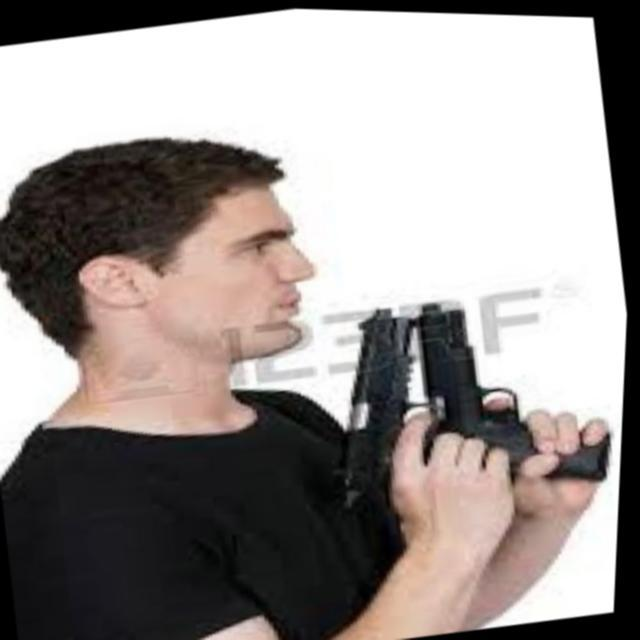weapon: (310, 267, 631, 526)
